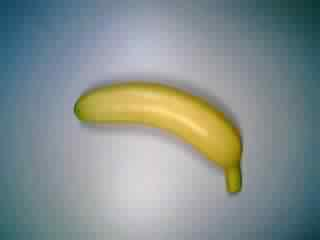banana: (70, 77, 248, 197)
